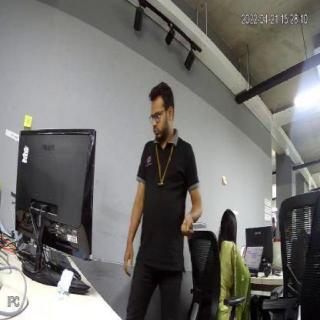knife: (184, 214, 208, 230)
